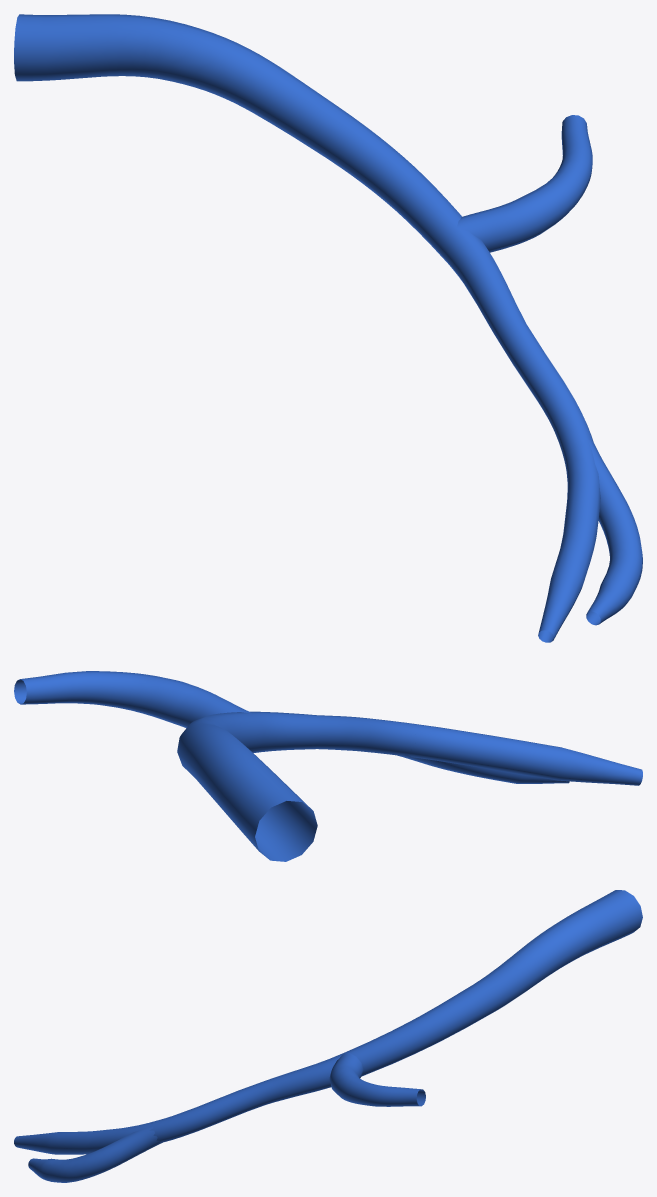
The model's file is circulatorio-superior-lingular-artery-of-left-lung.glb.
3 views of the same model, one above another, from view 1: azimuth 30°, elevation 25°; view 2: azimuth 150°, elevation 25°; view 3: azimuth 270°, elevation 25° (orthographic). The views are drawn at different scales.
Visible parts, largest first — view 1: Superior lingular artery of left lung; view 2: Superior lingular artery of left lung; view 3: Superior lingular artery of left lung.
Part boxes in pixels (bbox=[...]): Superior lingular artery of left lung: bbox=[14, 14, 642, 642]; Superior lingular artery of left lung: bbox=[14, 671, 642, 861]; Superior lingular artery of left lung: bbox=[14, 890, 642, 1182].
Size of the model in its own units: 0.0599 by 0.044 by 0.1082.
